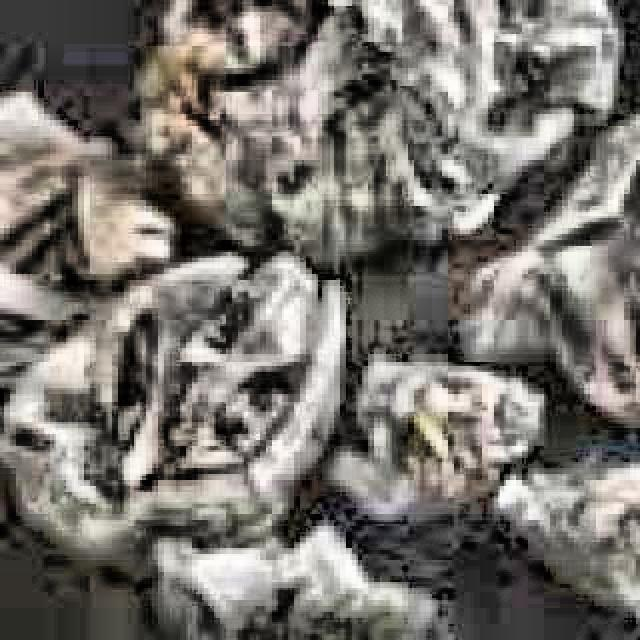paper: (130, 0, 624, 246), (0, 240, 340, 578), (454, 104, 640, 430), (0, 86, 174, 412), (324, 338, 546, 520), (148, 514, 432, 640), (494, 446, 640, 612)
